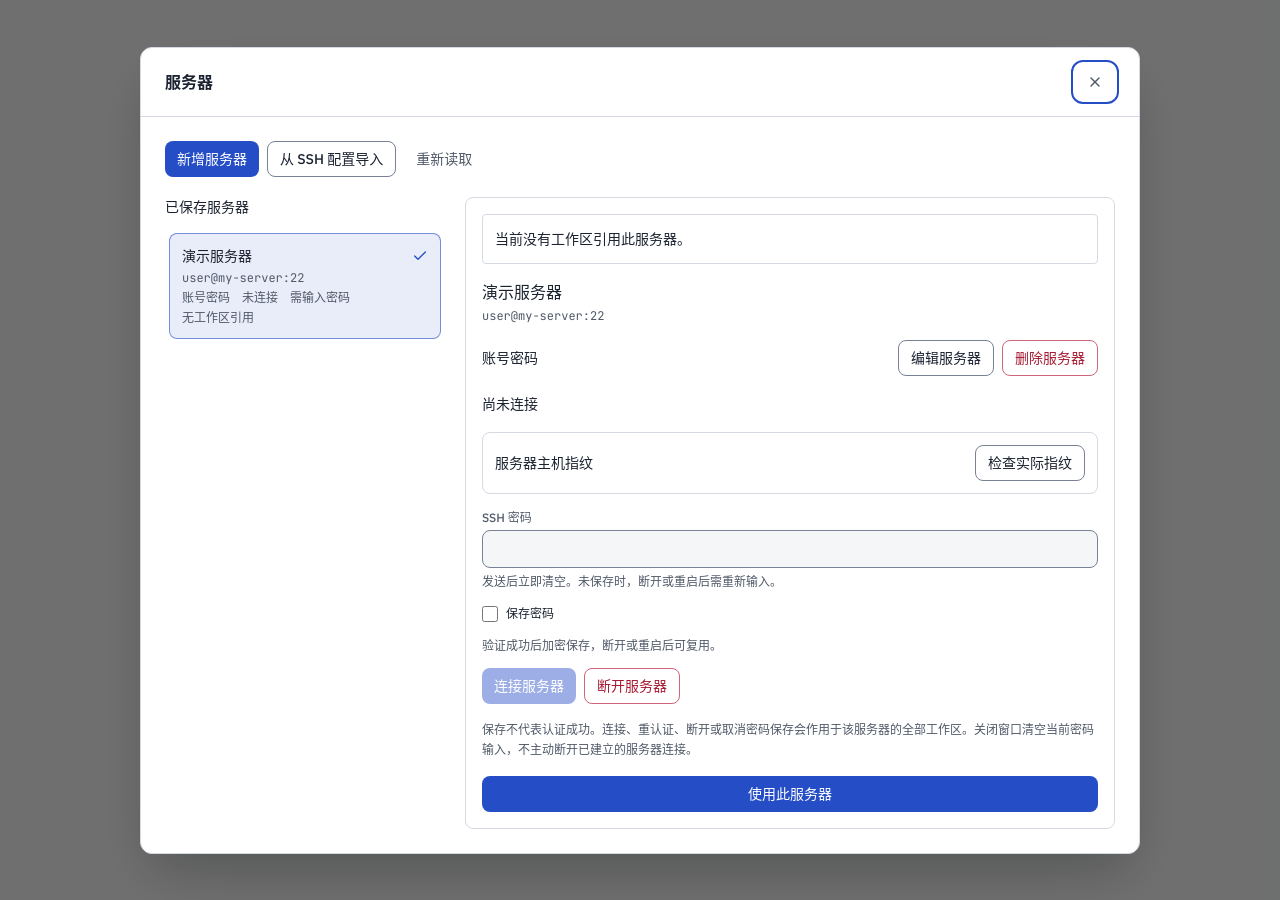
Test case: 删除必须明确确认，携带档案快照，成功移除选项
Click the button "删除服务器": (1050, 358) top-left (1002, 340), bottom-right (1098, 376)
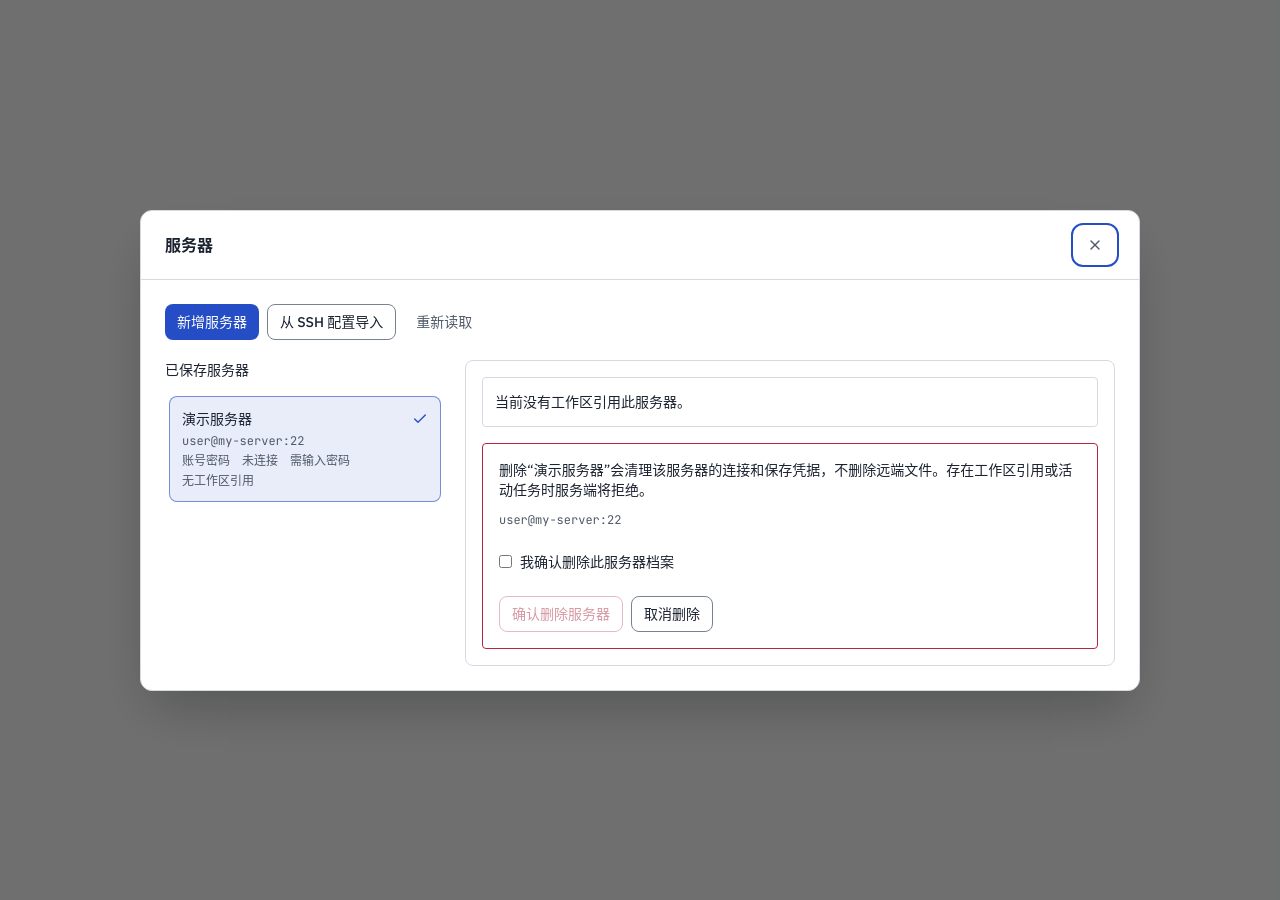
Check: the button "确认删除服务器" is disabled, box top-left (499, 596), bottom-right (623, 632)
Click the checkbox labelled "我确认删除此服务器档案": (506, 562) top-left (499, 555), bottom-right (512, 568)
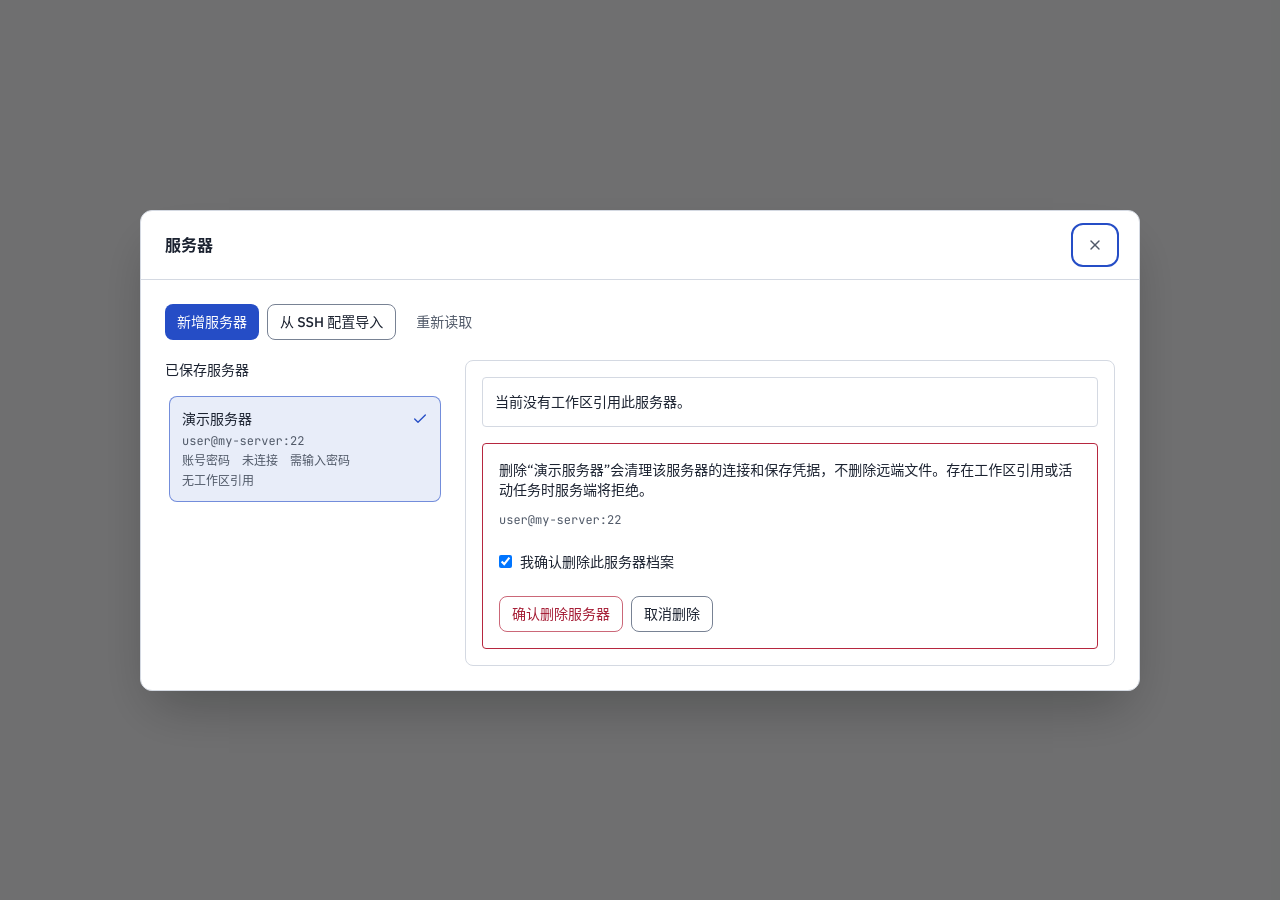
Click the button "确认删除服务器": (561, 614) top-left (499, 596), bottom-right (623, 632)
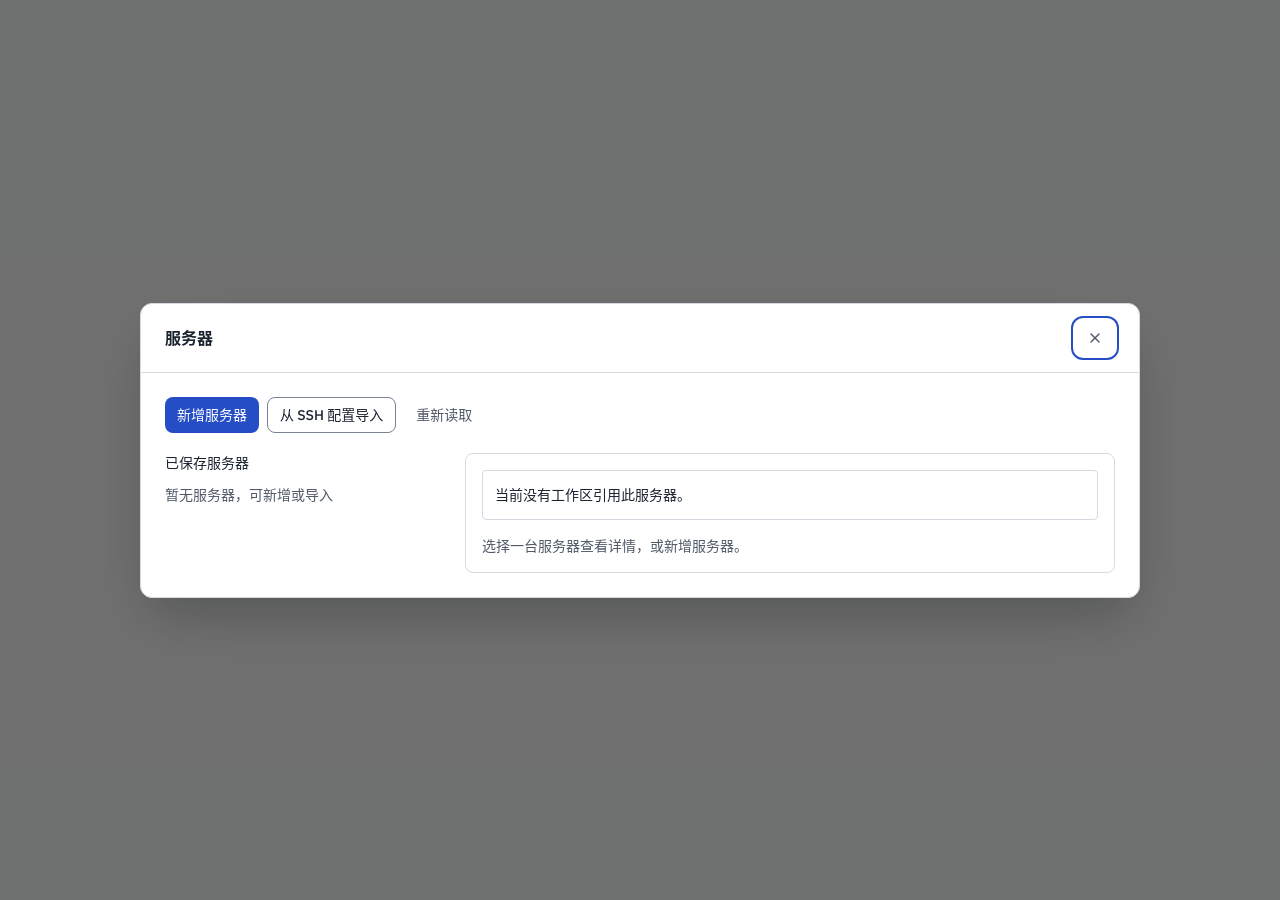
Check: the text "暂无服务器，可新增或导入" is shown, box top-left (165, 486), bottom-right (333, 504)
